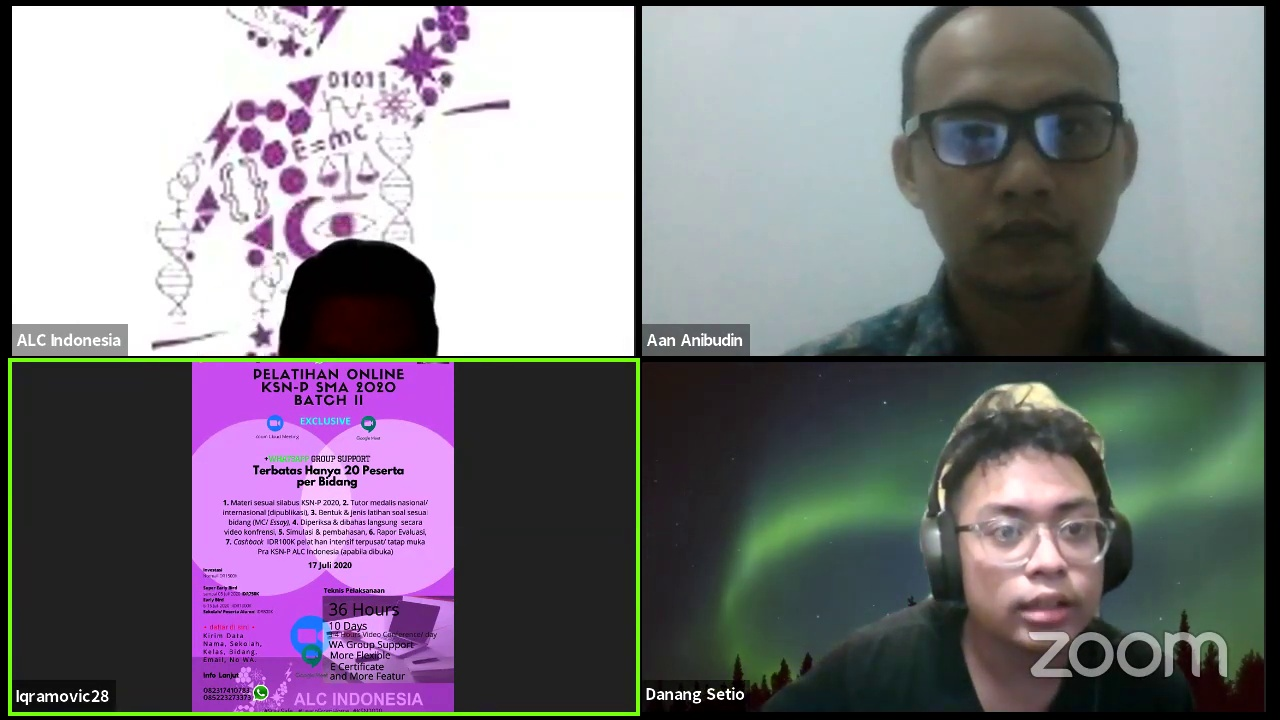Distracted: (272, 258, 444, 353)
Not Distracted: (903, 21, 1126, 288), (921, 419, 1127, 651)
